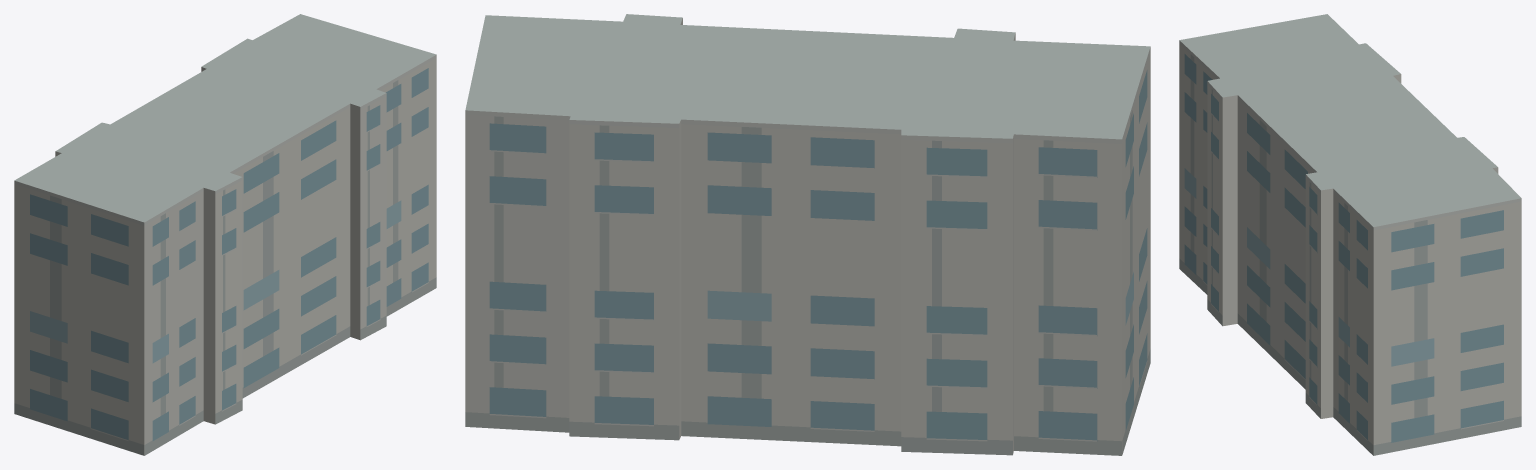
Rendered from survey-upis-32769823.glb.
The picture shows the model from 3 angles, left to right: view 1: azimuth 30°, elevation 25°; view 2: azimuth 150°, elevation 25°; view 3: azimuth 270°, elevation 25°; orthographic projection. The views are drawn at different scales.
Visible parts, largest first — view 1: survey-upis-32769823.tmp; view 2: survey-upis-32769823.tmp; view 3: survey-upis-32769823.tmp.
Part boxes in pixels (<box>): survey-upis-32769823.tmp: <box>14,14,436,455</box>; survey-upis-32769823.tmp: <box>465,14,1150,455</box>; survey-upis-32769823.tmp: <box>1179,14,1521,455</box>.
Size of the model in its own units: 34.61 by 17.3 by 23.48.
